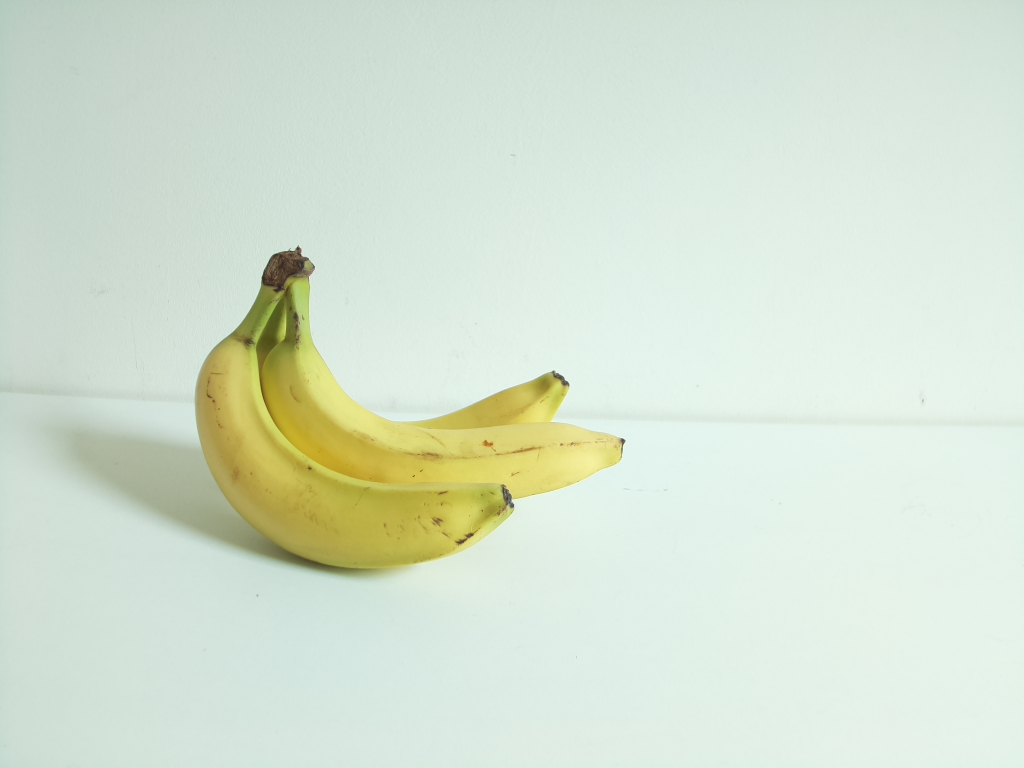banana: (194, 249, 512, 570), (263, 254, 626, 503), (252, 249, 570, 421)
